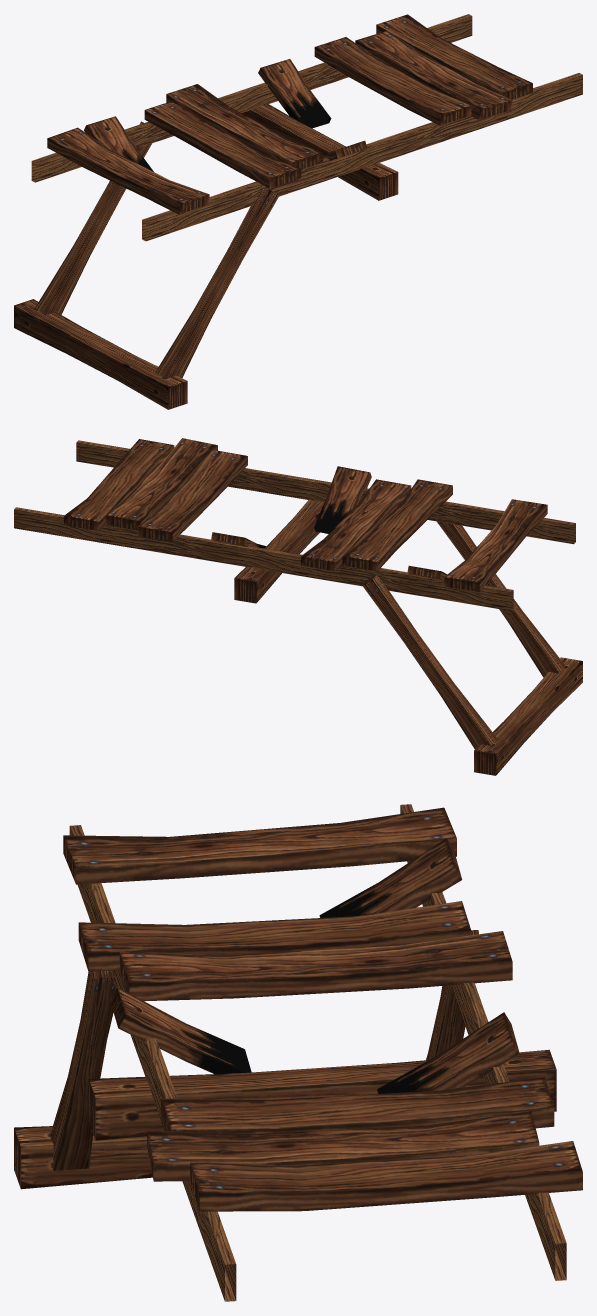
The model's file is OVERHILL_A_01_BRIDGE_BEAMS.fbx.
3 renders of one model, top to bottom at view 1: azimuth 30°, elevation 25°; view 2: azimuth 150°, elevation 25°; view 3: azimuth 270°, elevation 25°, orthographic. The views are drawn at different scales.
Visible parts, largest first — view 1: OVERHILL_A_01_BRIDGE_BEAMS; view 2: OVERHILL_A_01_BRIDGE_BEAMS; view 3: OVERHILL_A_01_BRIDGE_BEAMS.
Boxes of the visible parts, x1,y1,x2,y2 form: OVERHILL_A_01_BRIDGE_BEAMS: (14, 14, 582, 409); OVERHILL_A_01_BRIDGE_BEAMS: (14, 438, 582, 775); OVERHILL_A_01_BRIDGE_BEAMS: (14, 804, 582, 1301).
Bounding box in the file's own units: 66711 × 24418 × 34787.
Materials: 5 (5 with a texture image).
